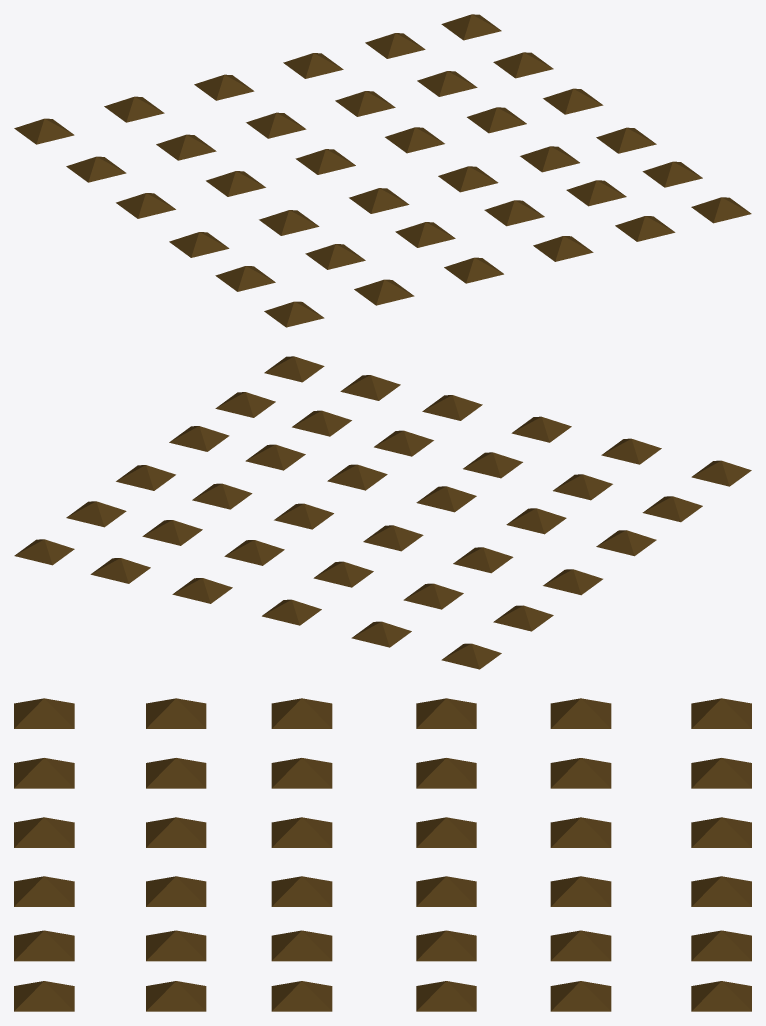
Rendered from Saplings.fbx.
3 views of the same model, one above another, from view 1: azimuth 30°, elevation 25°; view 2: azimuth 150°, elevation 25°; view 3: azimuth 270°, elevation 25° (orthographic). The views are drawn at different scales.
Visible parts, largest first — view 1: Saplings; view 2: Saplings; view 3: Saplings.
Part boxes in pixels (x1,y1,x2,y2): Saplings: (14,14,751,327); Saplings: (14,356,751,669); Saplings: (14,698,751,1011).
Bounding box in the file's own units: 457 × 12.42 × 462.
